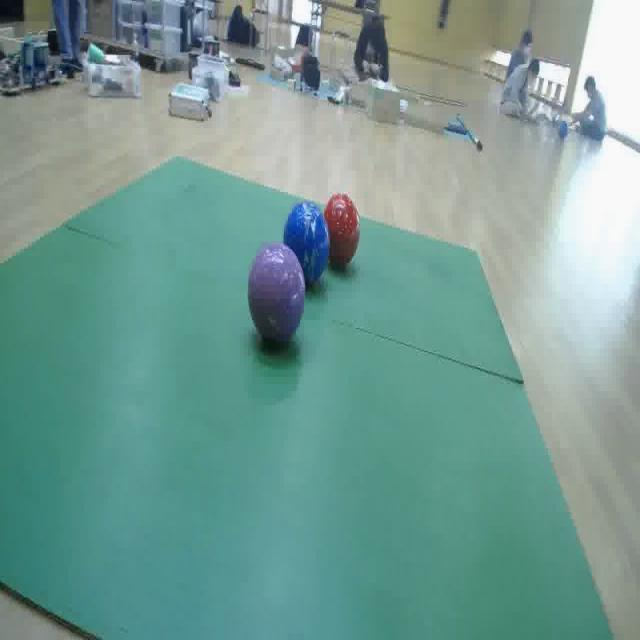blue_ball: (285, 200, 330, 284)
purple_ball: (248, 240, 306, 350)
red_ball: (324, 193, 360, 271)
